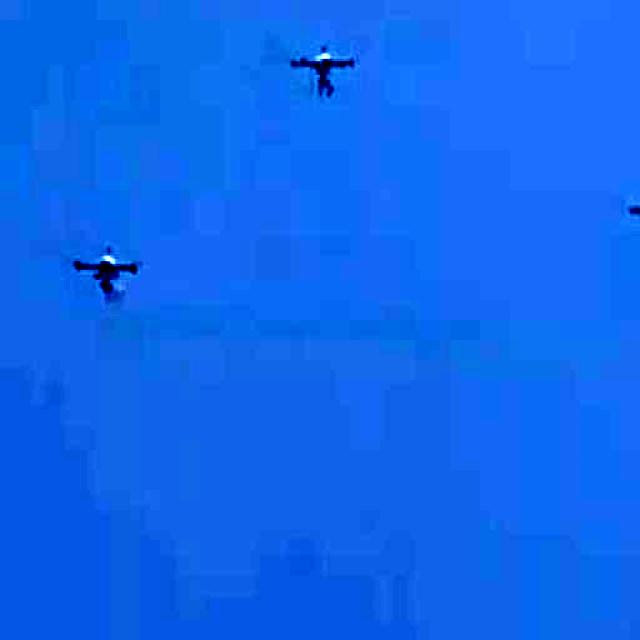bird: (42, 235, 158, 312), (271, 36, 385, 101), (611, 175, 640, 260)
